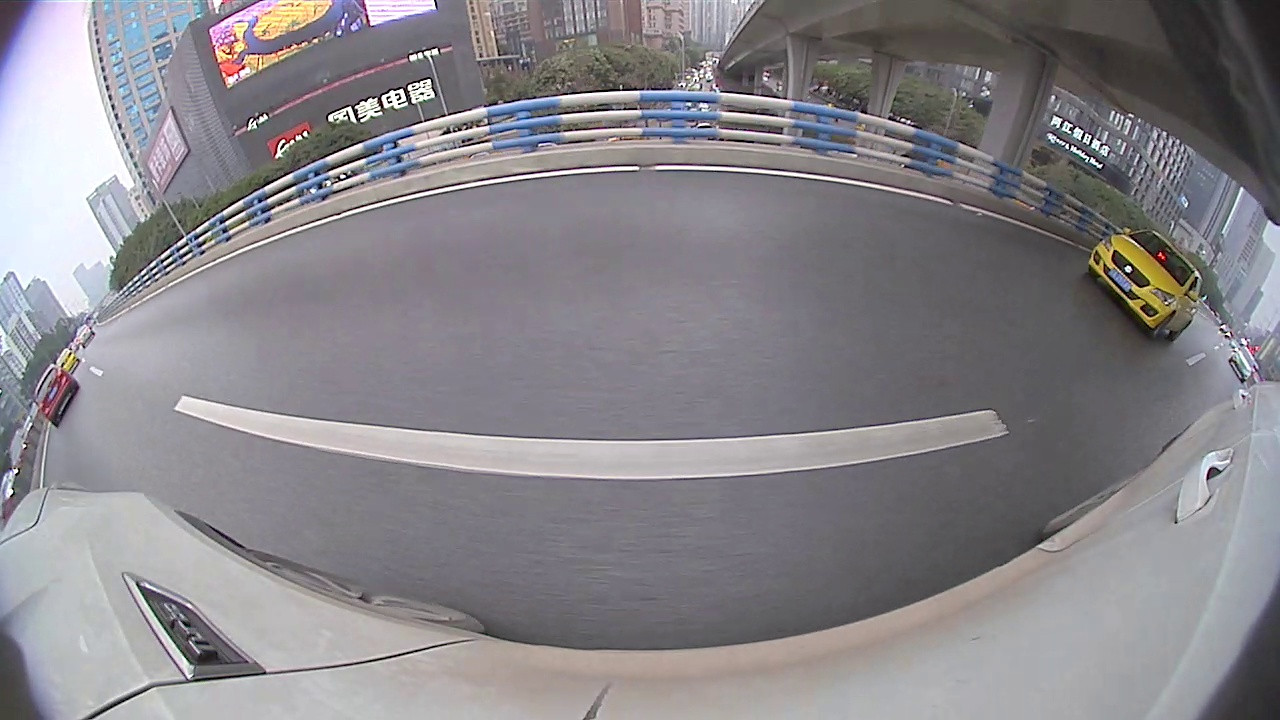bus: (700, 147, 725, 182)
car: (972, 182, 1278, 436), (445, 152, 560, 223), (848, 173, 962, 234), (622, 139, 711, 215), (736, 145, 839, 208), (566, 154, 602, 190)
front: (984, 240, 1050, 313), (736, 172, 751, 195), (849, 190, 864, 210), (553, 183, 560, 203)
rear: (899, 202, 918, 226), (772, 179, 785, 203), (524, 185, 535, 211)
